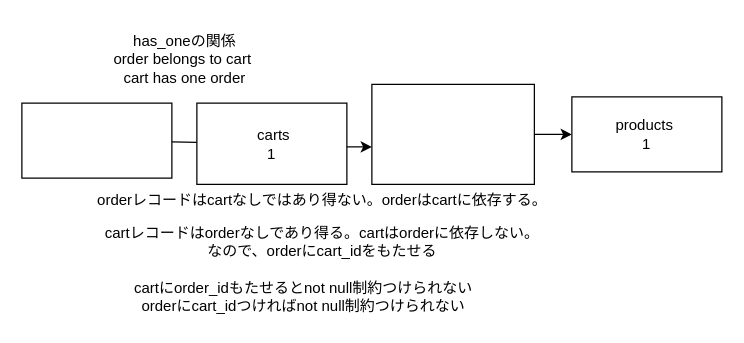
The diagram is 744 pixels wide and 343 high, and some of its shapes have lost their labels. Each missing label, with the centre of its shape:
cart_products 中間テーブル product_id FK cart_id FK 多: point 452,133
orders 購入者の情報 1 cart_id FK: point 96,140
